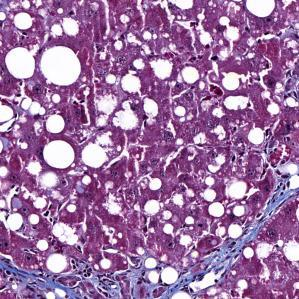fibrosis: (57, 264, 181, 299), (237, 190, 297, 245)
